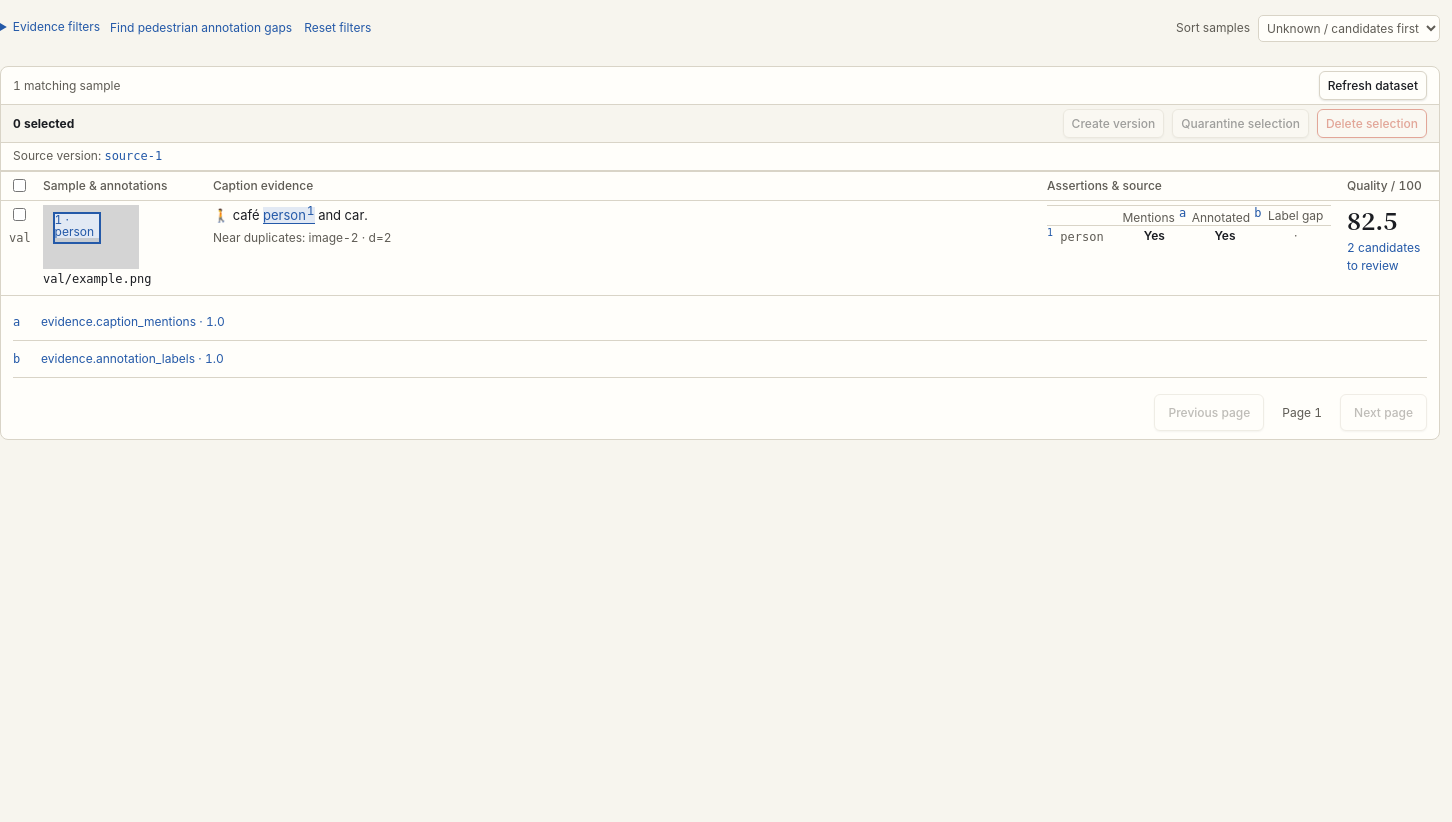
Test: does not prepare or execute create_version_from_selection during composition
Click the checkbox named "Select val/example.png" at (20, 215), box x1=13 y1=208 x2=26 y2=221
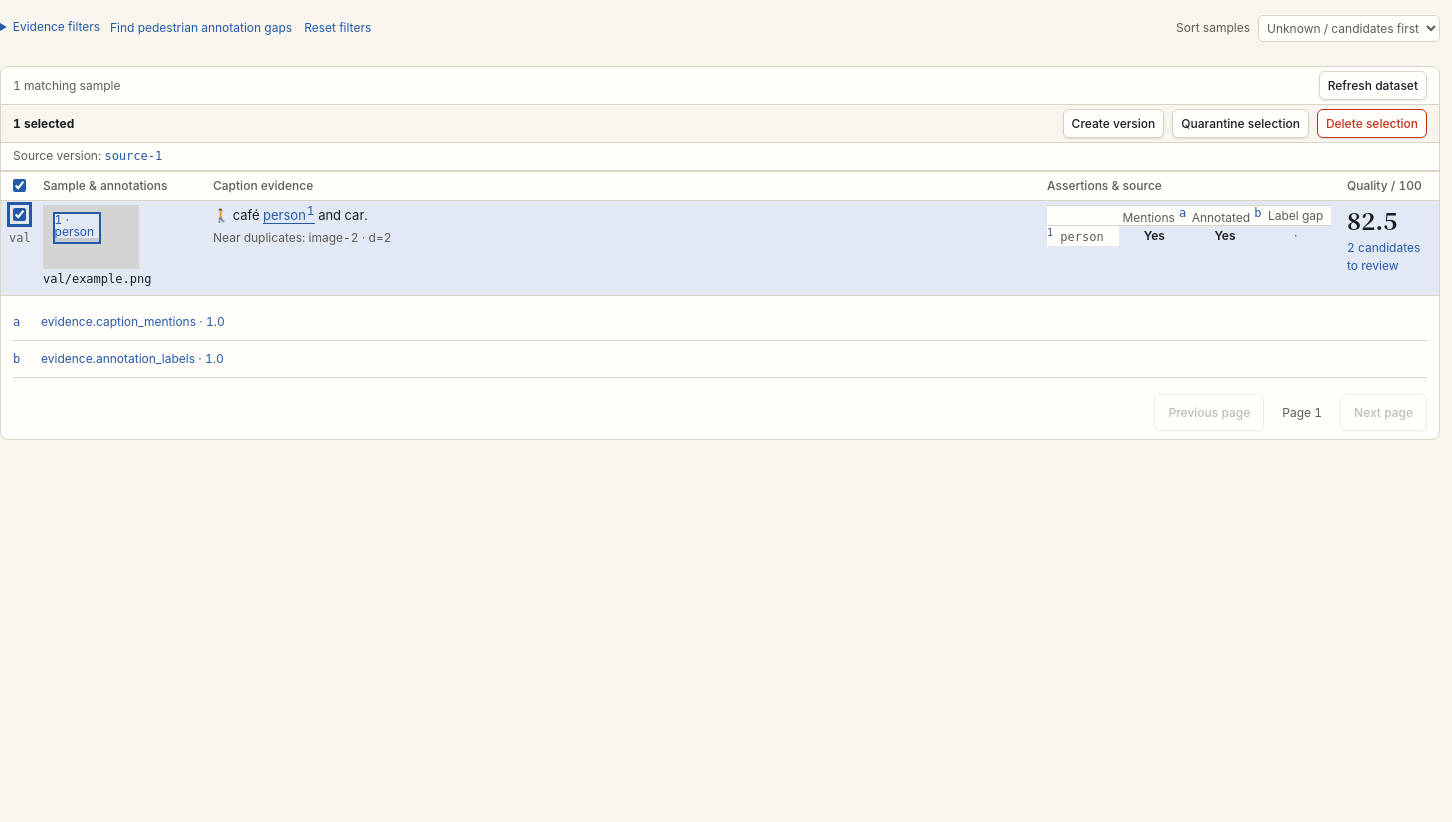
Click the button "Create version" at (1114, 124), box x1=1063 y1=109 x2=1164 y2=138
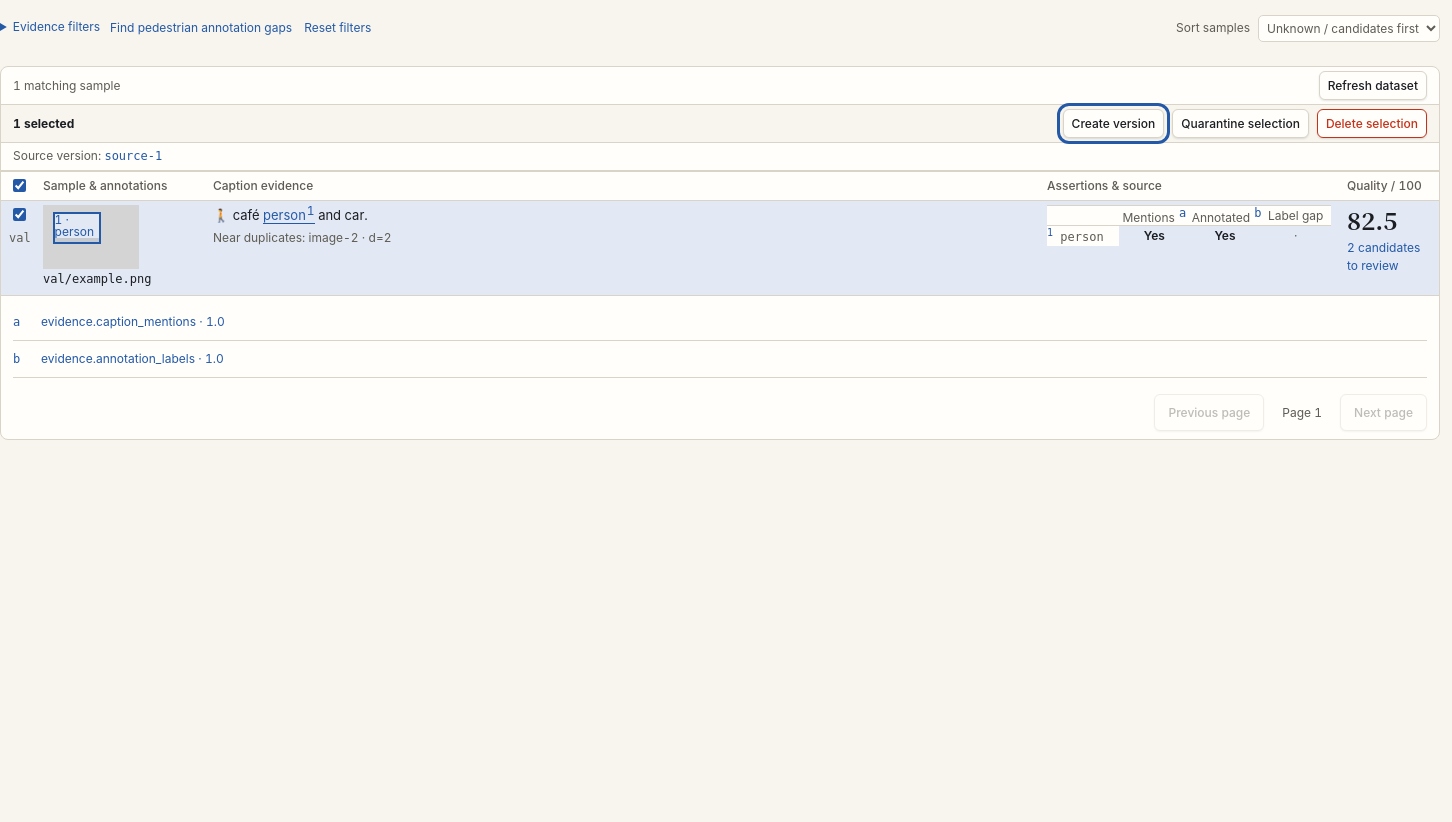
Press Enter in the button "Create version", box x1=1063 y1=109 x2=1164 y2=138
Press Space in the button "Create version", box x1=1063 y1=109 x2=1164 y2=138
Click the button "Create version" at (1114, 124), box x1=1063 y1=109 x2=1164 y2=138
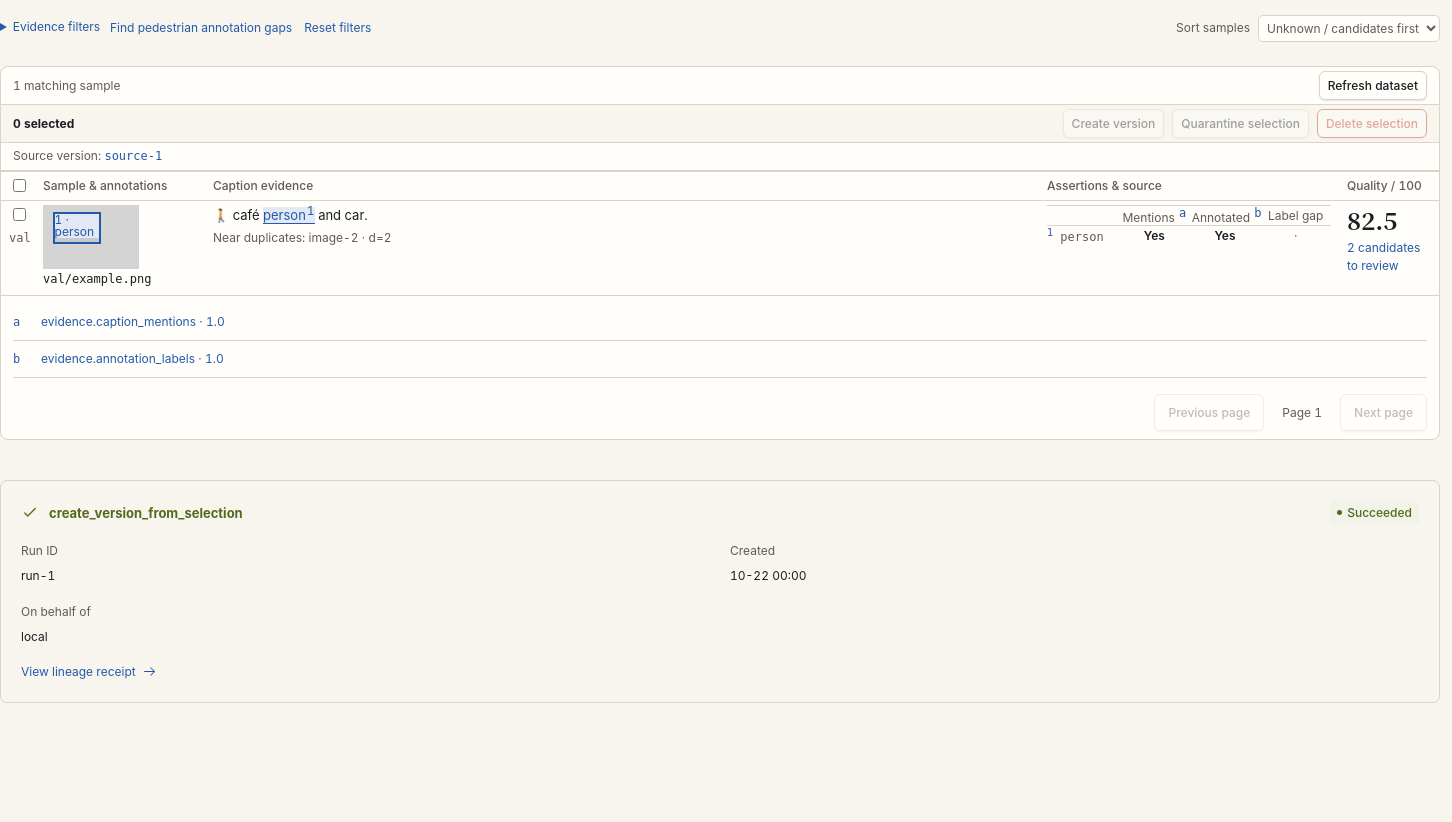
Expected: the element named "Receipt" is shown, x1=0 y1=480 x2=1440 y2=702
